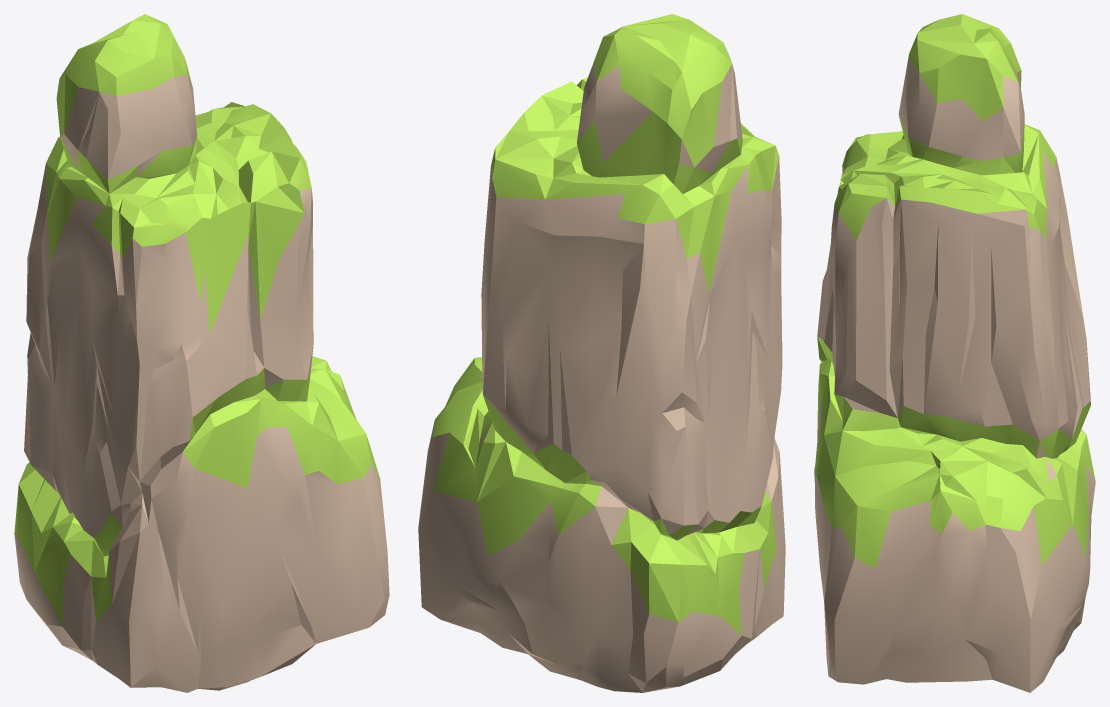
The model's file is rock_2.glb.
3 views of the same model, side by side, from view 1: azimuth 30°, elevation 25°; view 2: azimuth 150°, elevation 25°; view 3: azimuth 270°, elevation 25° (orthographic). The views are drawn at different scales.
Parts seen in each view (by area): view 1: Rock1.005; view 2: Rock1.005; view 3: Rock1.005.
Boxes of the visible parts, x1,y1,x2,y2 form: Rock1.005: (14,14,389,692); Rock1.005: (418,14,785,692); Rock1.005: (814,14,1095,692).
Bounding box in the file's own units: 1.71 × 3.58 × 1.5.
Materials: 1 (1 with a texture image).
